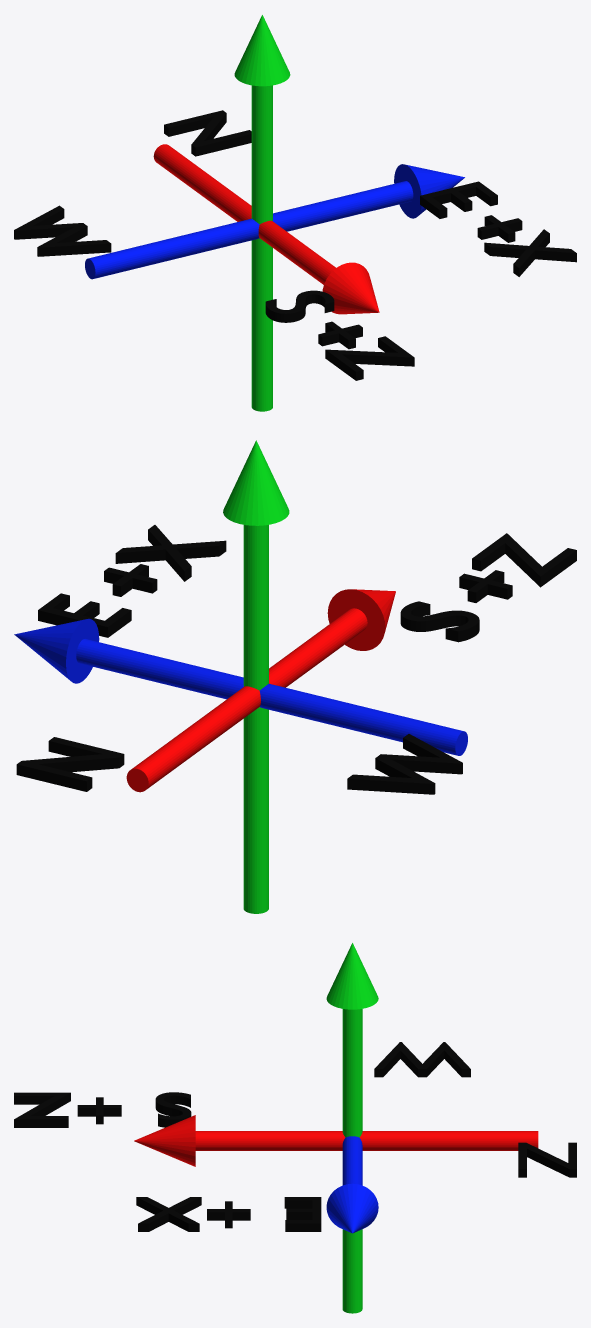
The model's file is compass.glb.
The picture shows the model from 3 angles, top to bottom: view 1: azimuth 30°, elevation 25°; view 2: azimuth 150°, elevation 25°; view 3: azimuth 270°, elevation 25°; orthographic projection. The views are drawn at different scales.
Parts seen in each view (by area): view 1: Cylinder.001; view 2: Cylinder.001; view 3: Cylinder.001.
Boxes of the visible parts, left/top/right/bottom form: Cylinder.001: left=14, top=15, right=576, bottom=411; Cylinder.001: left=14, top=440, right=576, bottom=913; Cylinder.001: left=14, top=943, right=576, bottom=1313.
Size of the model in its own units: 2.33 by 2.18 by 3.03.
